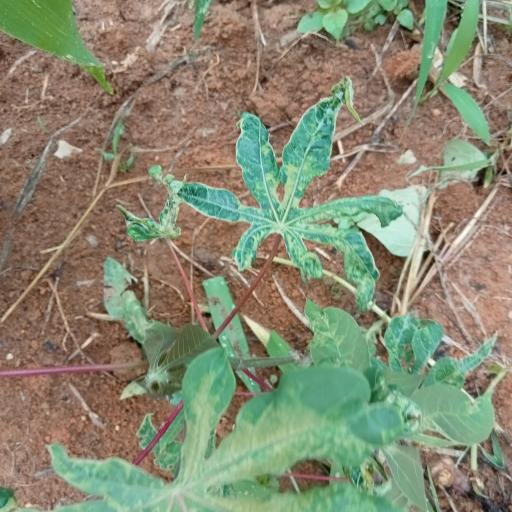Cassava_Mosaic: (172, 87, 400, 304), (69, 376, 357, 512)
